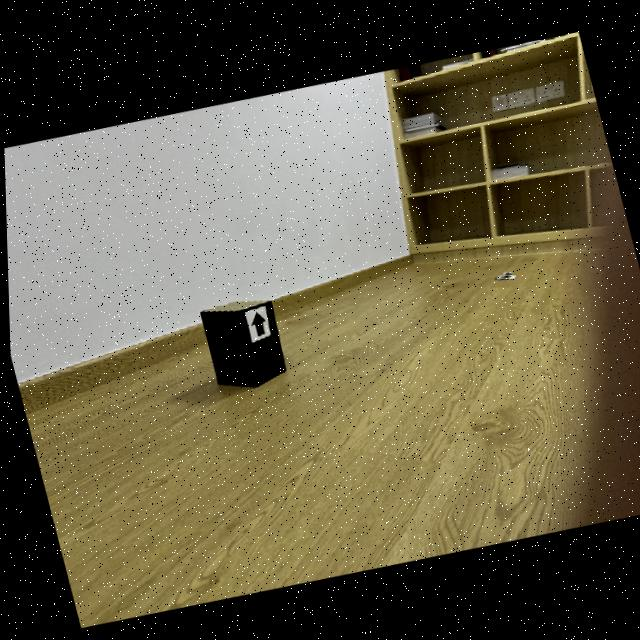UP: (249, 310, 264, 334)
